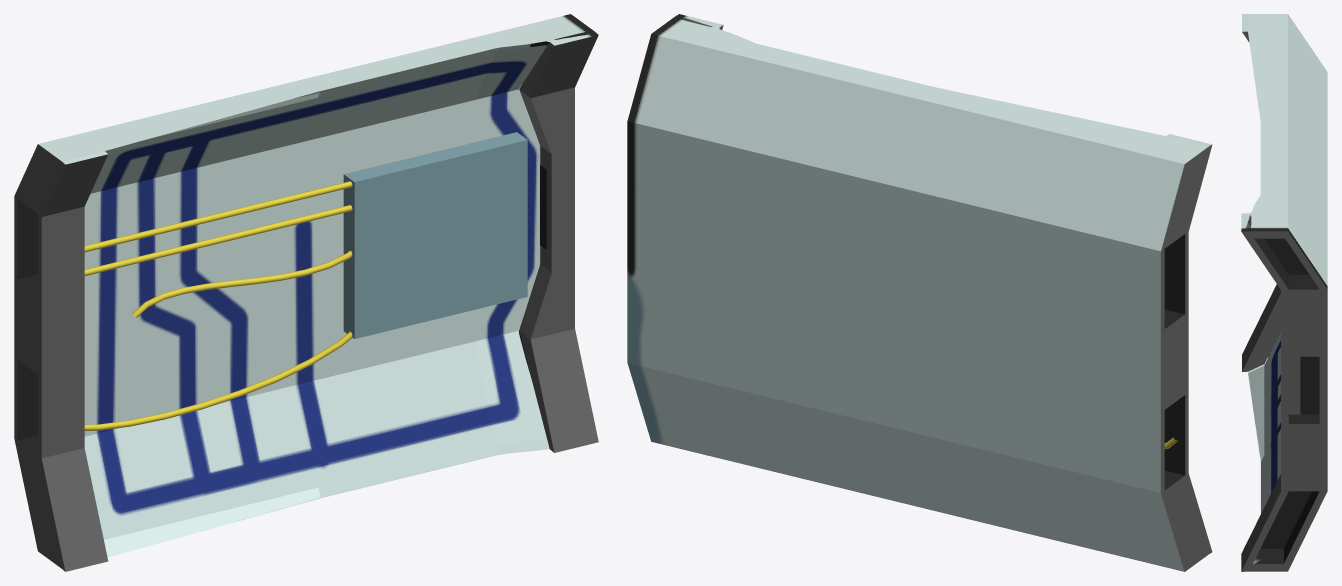
File: space station wall.fbx
3 views of the same model, side by side, from view 1: azimuth 30°, elevation 25°; view 2: azimuth 150°, elevation 25°; view 3: azimuth 270°, elevation 25° (orthographic). The views are drawn at different scales.
Visible parts, largest first — view 1: Cube, BézierCurve.003, BézierCurve, BézierCurve.001, BézierCurve.002; view 2: Cube; view 3: Cube.
Part boxes in pixels (<box>): Cube: <box>14,14,598,571</box>; BézierCurve.003: <box>84,331,352,430</box>; BézierCurve: <box>84,181,352,252</box>; BézierCurve.001: <box>84,205,352,275</box>; BézierCurve.002: <box>131,250,352,317</box>; Cube: <box>627,14,1212,571</box>; Cube: <box>1241,14,1327,571</box>.
Bounding box in the file's own units: 1161 × 849 × 195.
